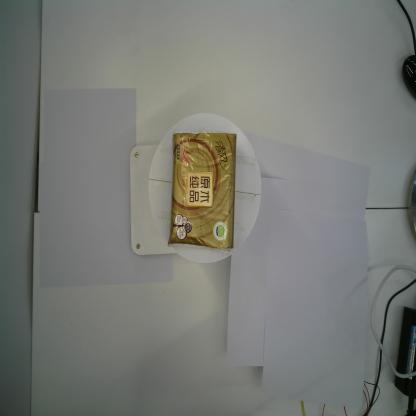Tissue: (166, 131, 237, 256)
